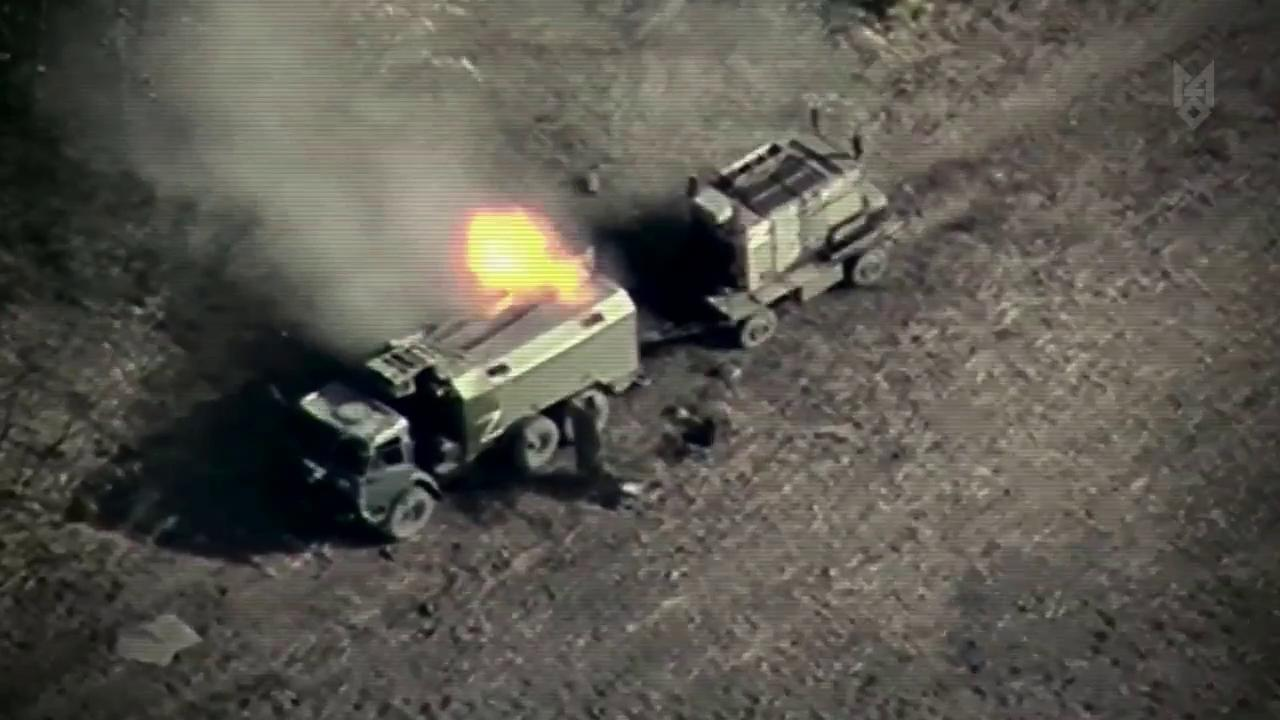tank: (261, 245, 671, 544), (674, 107, 913, 349)
